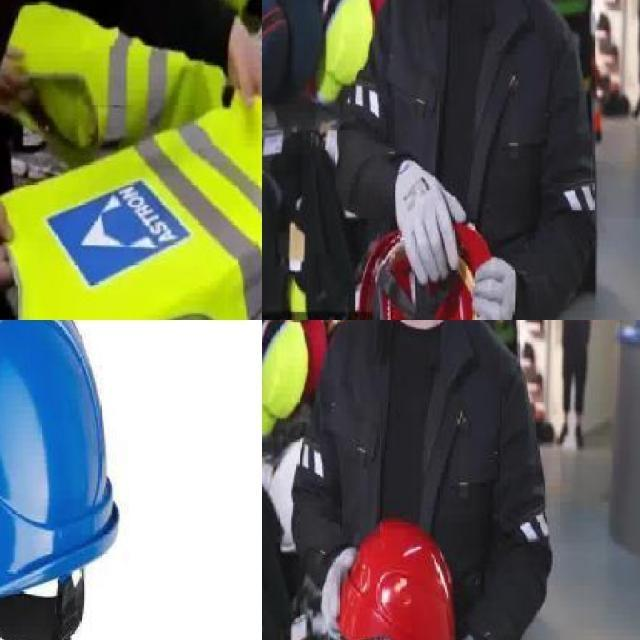apron: (394, 162, 468, 287), (319, 543, 356, 634), (471, 256, 517, 320)
